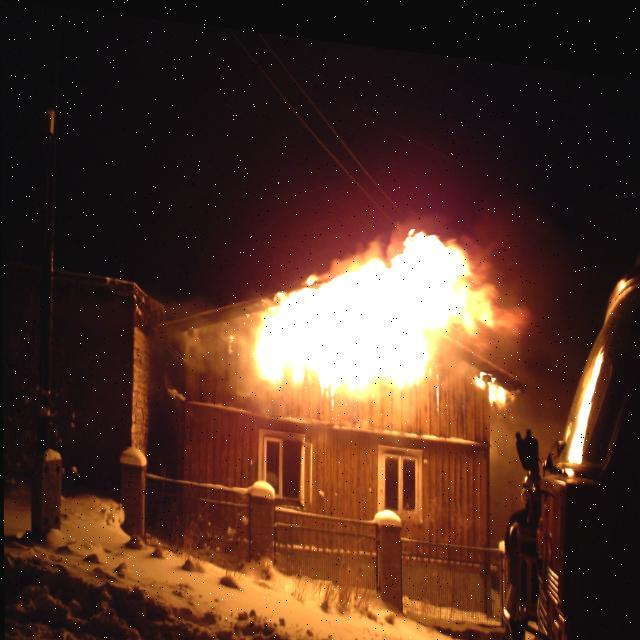Fire: (218, 172, 528, 428)
